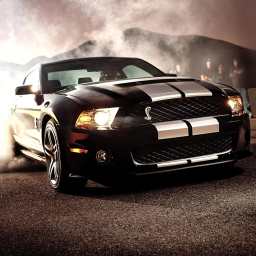car: (8, 54, 254, 199)
